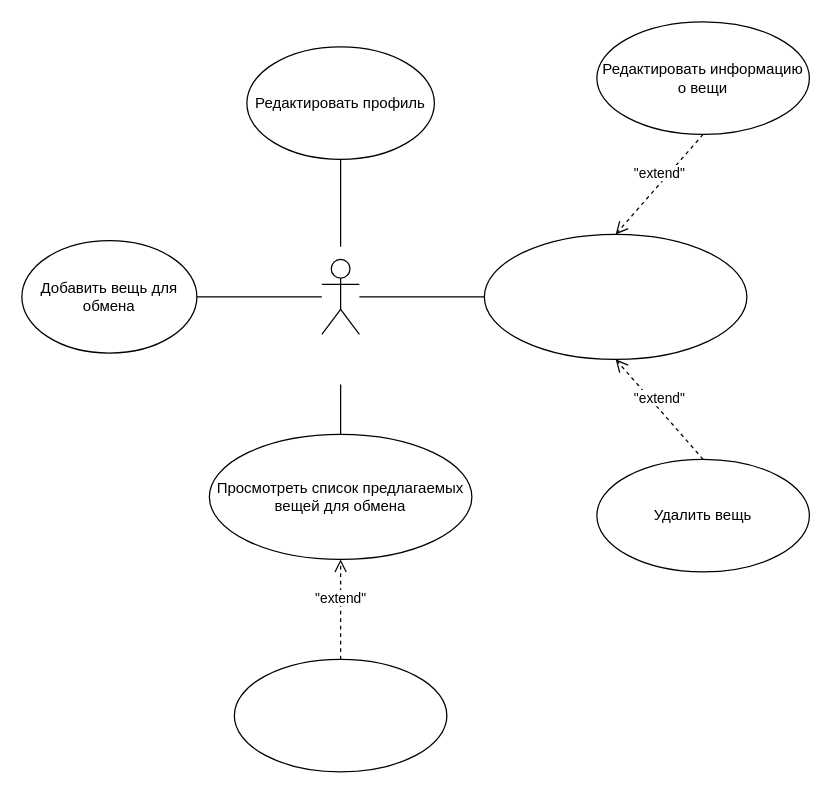
The diagram is 831 pixels wide and 794 high, and some of its shapes have lost their labels. Here are the shapes that lost their labels. From the top down, the box of each, then its label:
(321, 258, 359, 334): Авторизованный пользователь
(483, 233, 747, 359): Просмотреть личный список опубликованных вещей
(233, 658, 447, 772): Обменять вещь
